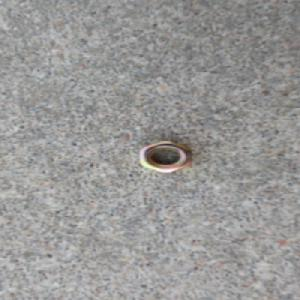Nut: (136, 139, 194, 174)
